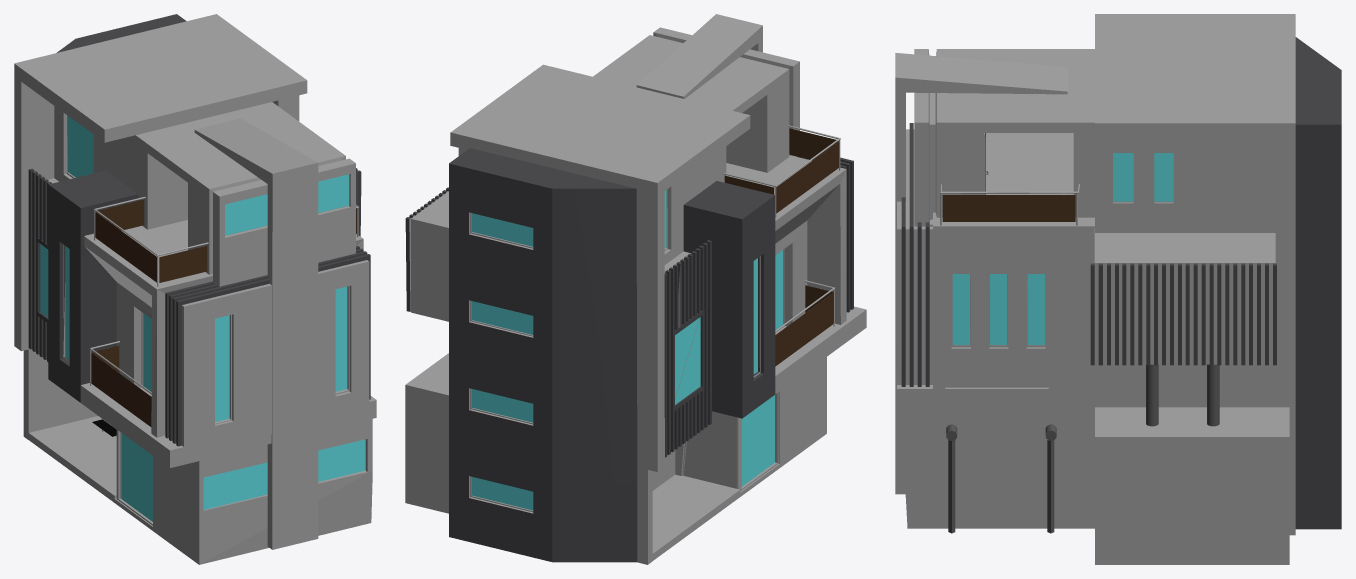
3 renders of one model, left to right at view 1: azimuth 30°, elevation 25°; view 2: azimuth 150°, elevation 25°; view 3: azimuth 270°, elevation 25°, orthographic. The views are drawn at different scales.
Parts seen in each view (by area): view 1: Object028, Object028.001, Object028.009, Object028.004, Object028.007, Object028.006, Object028.003, Object028.002; view 2: Object028, Object028.009, Object028.001, Object028.006, Object028.004, Object028.007, Object028.002, Object028.008, Object028.003; view 3: Object028, Object028.009, Object028.008, Object028.001, Object028.007, Object028.005, Object028.004, Object028.013.
Part boxes in pixels (x1,y1,x2,y2): Object028: [14, 14, 376, 564]; Object028.001: [40, 116, 365, 521]; Object028.009: [48, 14, 186, 402]; Object028.004: [91, 199, 356, 426]; Object028.007: [165, 246, 370, 446]; Object028.006: [28, 168, 52, 361]; Object028.003: [65, 246, 69, 359]; Object028.002: [40, 244, 48, 310]; Object028: [405, 14, 866, 564]; Object028.009: [449, 148, 775, 562]; Object028.001: [472, 190, 783, 510]; Object028.006: [664, 240, 711, 457]; Object028.004: [724, 128, 838, 366]; Object028.007: [797, 156, 853, 312]; Object028.002: [675, 317, 699, 397]; Object028.008: [405, 187, 448, 311]; Object028.003: [753, 258, 757, 374]; Object028: [895, 14, 1295, 564]; Object028.009: [1295, 37, 1341, 529]; Object028.008: [1090, 263, 1276, 365]; Object028.001: [952, 153, 1173, 344]; Object028.007: [901, 123, 929, 386]; Object028.005: [946, 364, 1219, 533]; Object028.004: [942, 195, 1074, 221]; Object028.013: [944, 195, 1075, 221].
Size of the model in its own units: 5378 by 6973 by 6723.
